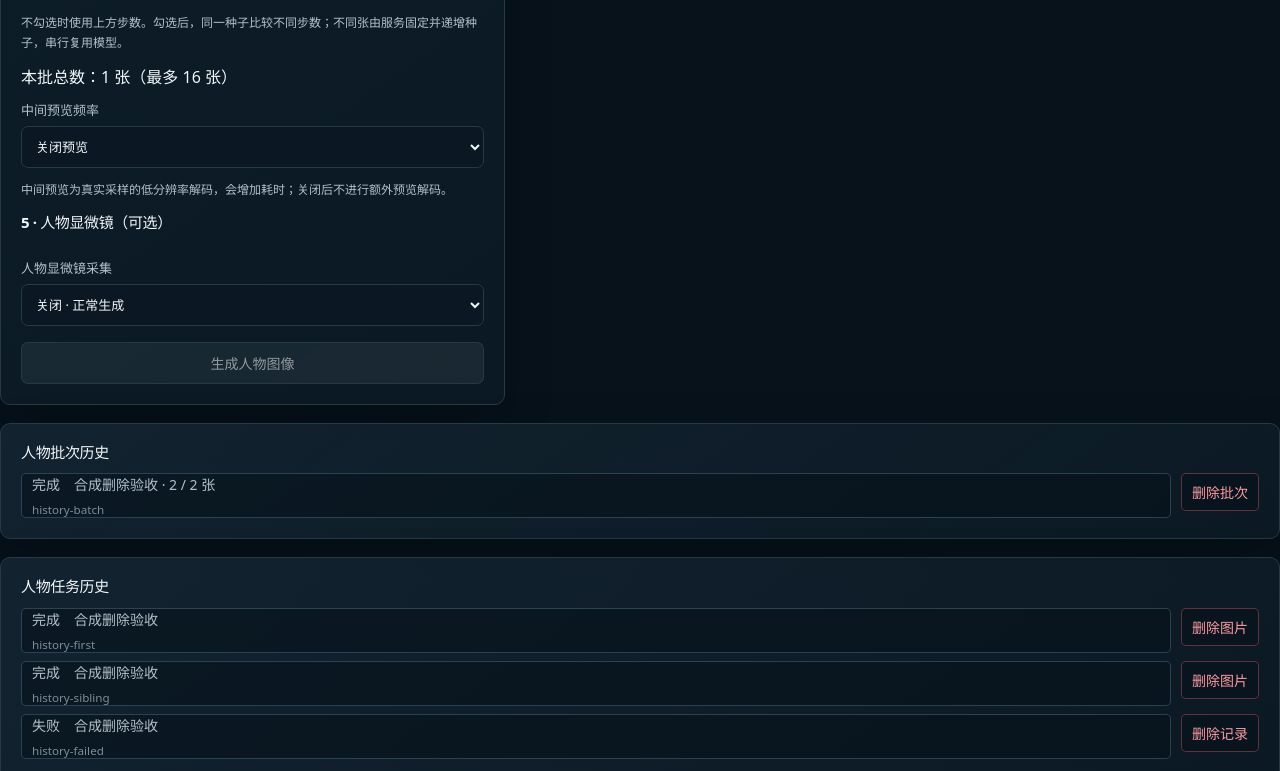
keeps the batch and every child visible when batch deletion fails
(page scrolled)
Expected: the button named "打开人物任务 history-first" is shown, [21, 608, 1171, 653]
Click the button named "删除批次 history-batch".
click(1220, 492)  # box [1181, 473, 1259, 511]
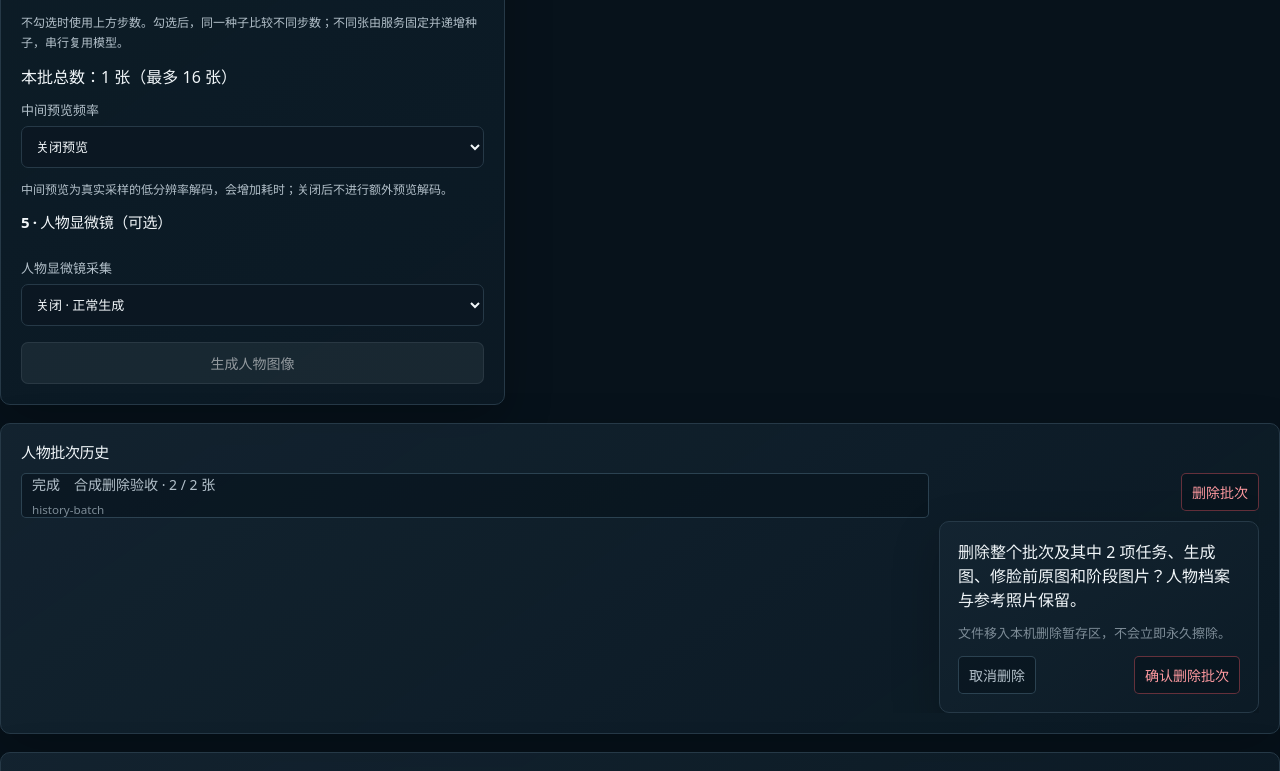
Click the button "确认删除批次".
click(1187, 675)  # box [1134, 656, 1240, 694]
(page scrolled)
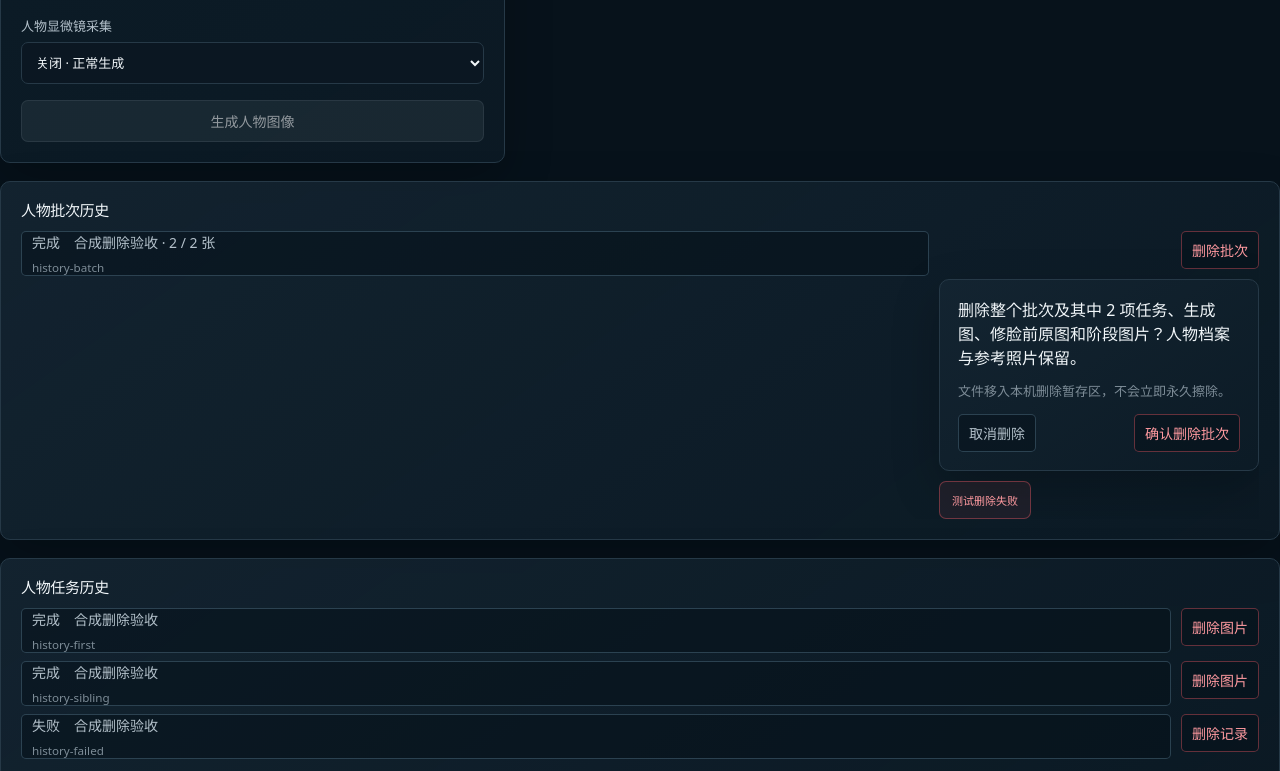
Expected: the button named "打开人物批次 history-batch" is shown, [21, 231, 929, 276]
Now the text "测试删除失败" is shown, box [939, 481, 1031, 519]
